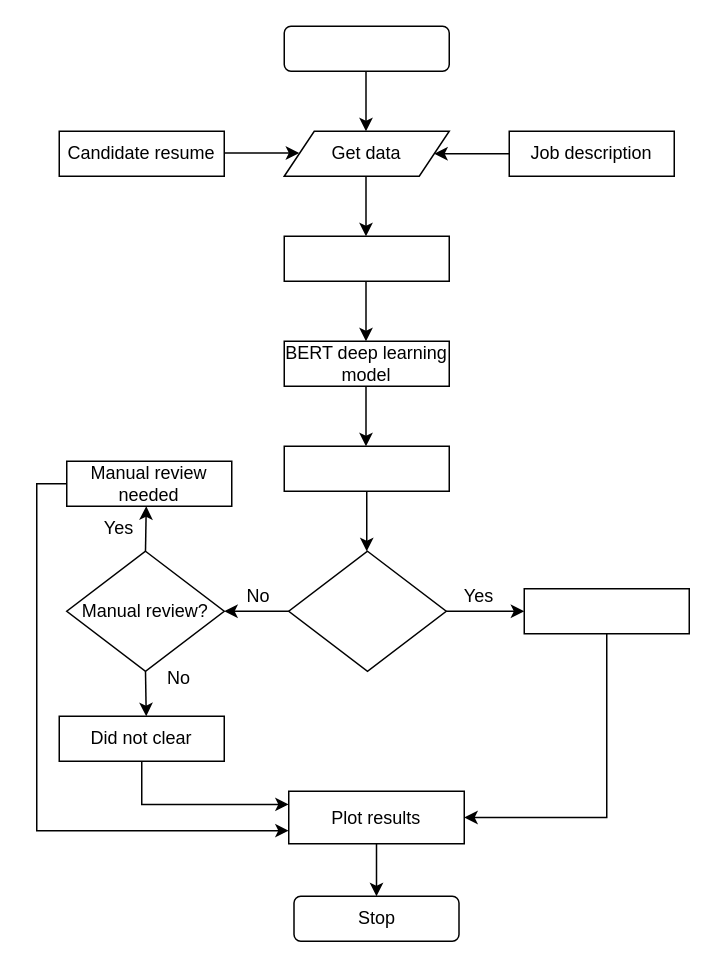
Image size: 716x968. Some labels were removed from this diagram. The centre of each missing label's shape, as x and y in pixels:
"Cosine similarity" belongs at point 366,468.
"Passed" belongs at point 606,610.
"Process data" belongs at point 366,258.
"Score>passing?" belongs at point 366,610.
"Start" belongs at point 366,48.
